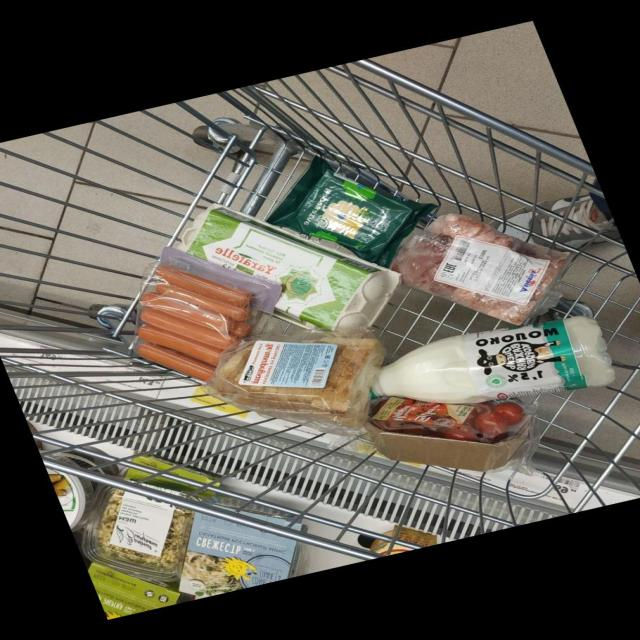Bread: (205, 332, 383, 435)
Cheese: (267, 156, 435, 266)
Eggs: (181, 207, 399, 334)
Meat: (390, 214, 569, 325)
Milk: (370, 316, 614, 404)
Sausages: (134, 247, 280, 381)
Tomatoes: (473, 411, 508, 438), (493, 401, 523, 426), (441, 426, 477, 442)
